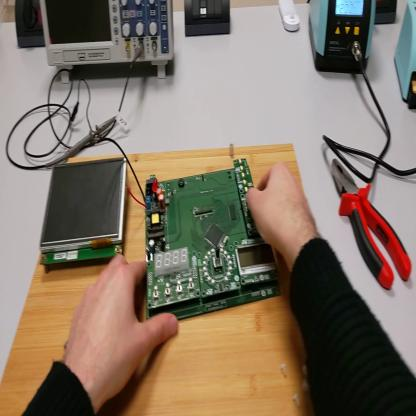hand: (66, 254, 179, 403), (247, 163, 316, 261)
low voltage board: (100, 138, 284, 324)
oscilloscope: (41, 2, 176, 81)
pliers: (330, 159, 413, 290)
socket: (15, 2, 47, 49), (374, 1, 399, 24)
welder base: (394, 4, 416, 109)
welder station: (310, 3, 375, 77)
working area: (2, 152, 315, 416)
